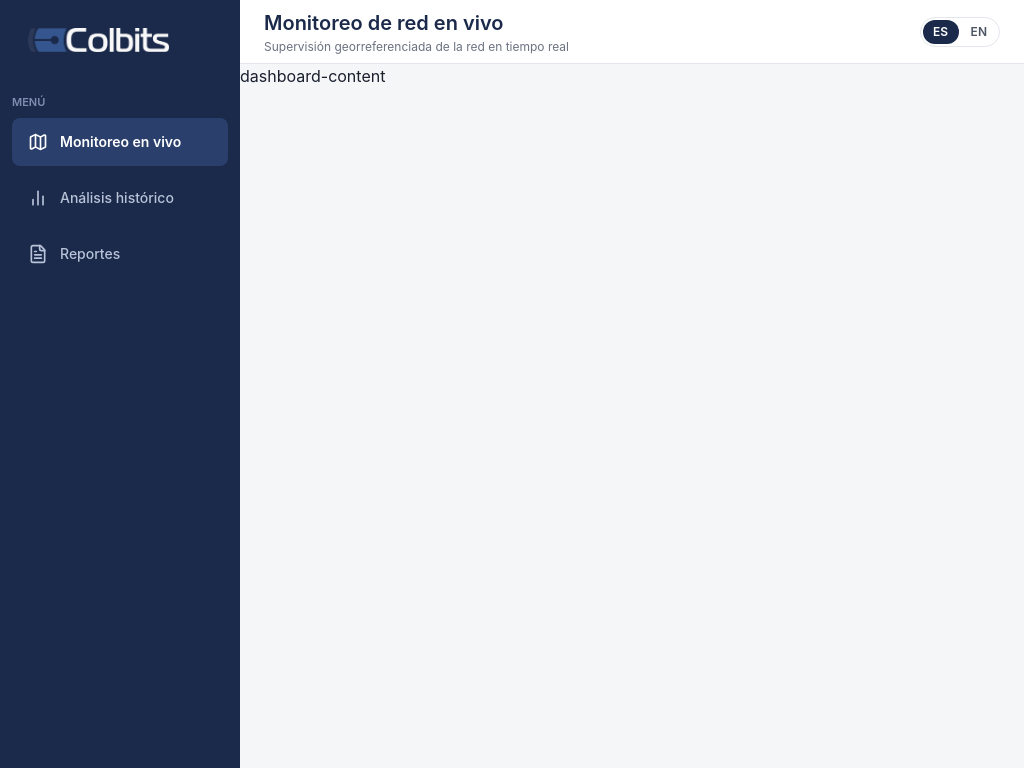
AppShell › updates the page and the top bar title when a sidebar link is clicked
The image size is (1024, 768).
Click the link "Reportes": click(74, 254) [28,244,120,264]
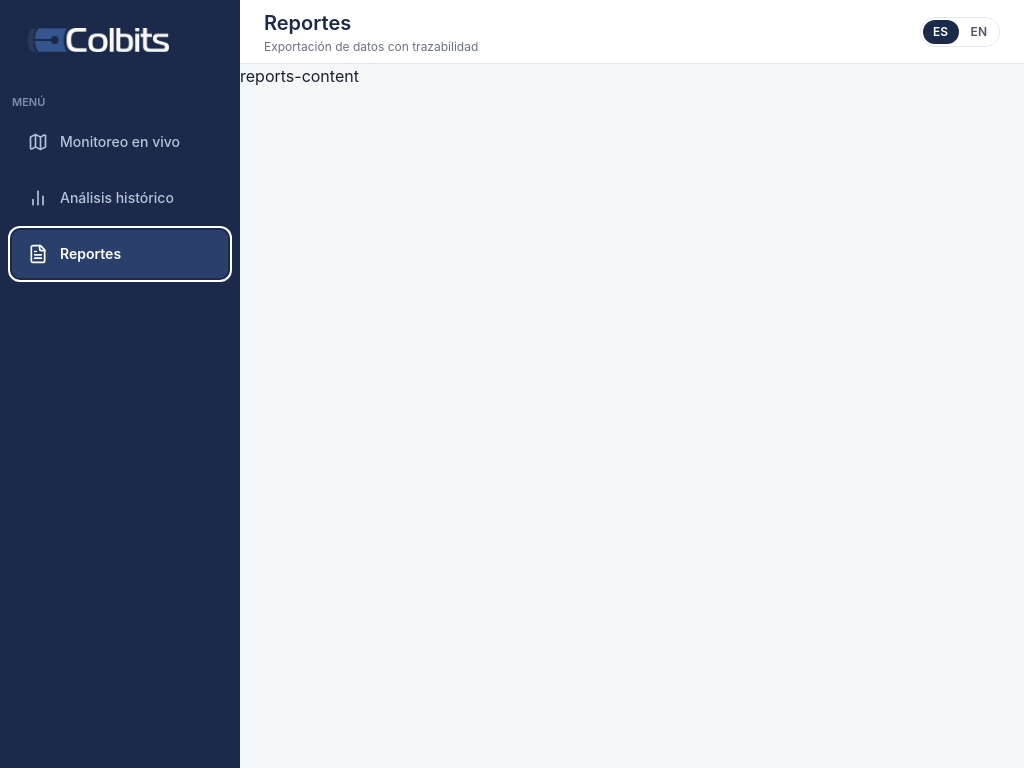
Now the text "reports-content" is shown, box [240,66,359,86]
Now the heading "Reportes" is shown, box [264,10,351,34]
